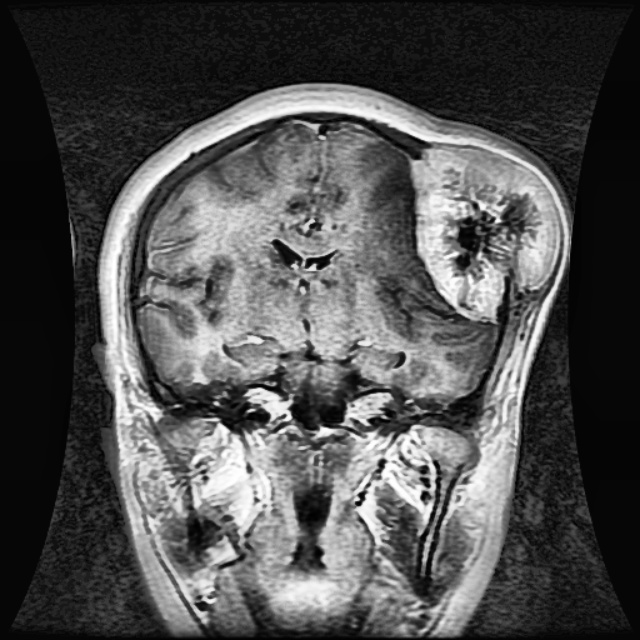Glioma: (412, 144, 557, 323)
